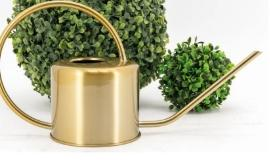ARROSOIR: (0, 0, 267, 151)
